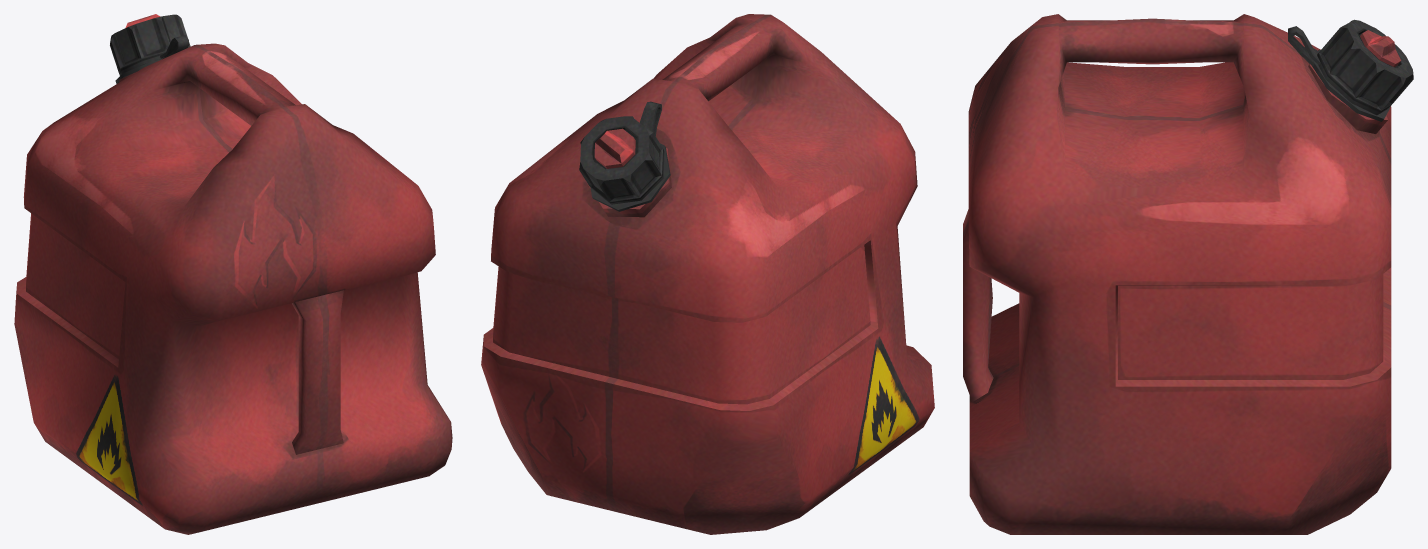
Rendered from GEAR_gascan.fbx.
3 renders of one model, left to right at view 1: azimuth 30°, elevation 25°; view 2: azimuth 150°, elevation 25°; view 3: azimuth 270°, elevation 25°, orthographic. The views are drawn at different scales.
Visible parts, largest first — view 1: gascan; view 2: gascan; view 3: gascan.
Boxes of the visible parts, bbox=[...] form: gascan: bbox=[14, 14, 452, 534]; gascan: bbox=[481, 14, 934, 534]; gascan: bbox=[963, 14, 1413, 534].
Size of the model in its own units: 27.2 by 33.92 by 30.71.
Materials: 1 (1 with a texture image).
